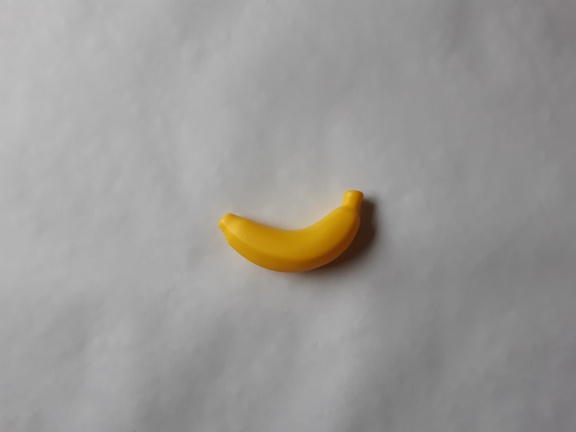banana: (211, 184, 373, 281)
